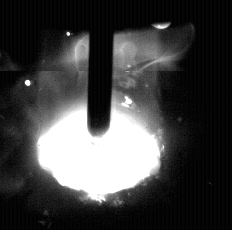arame: (88, 0, 112, 137)
poca: (36, 0, 161, 230)
